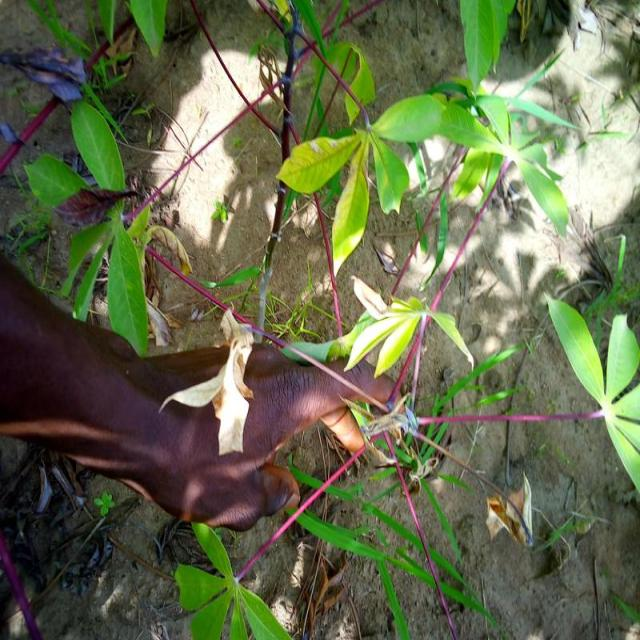cassava leaf: (544, 291, 638, 495)
